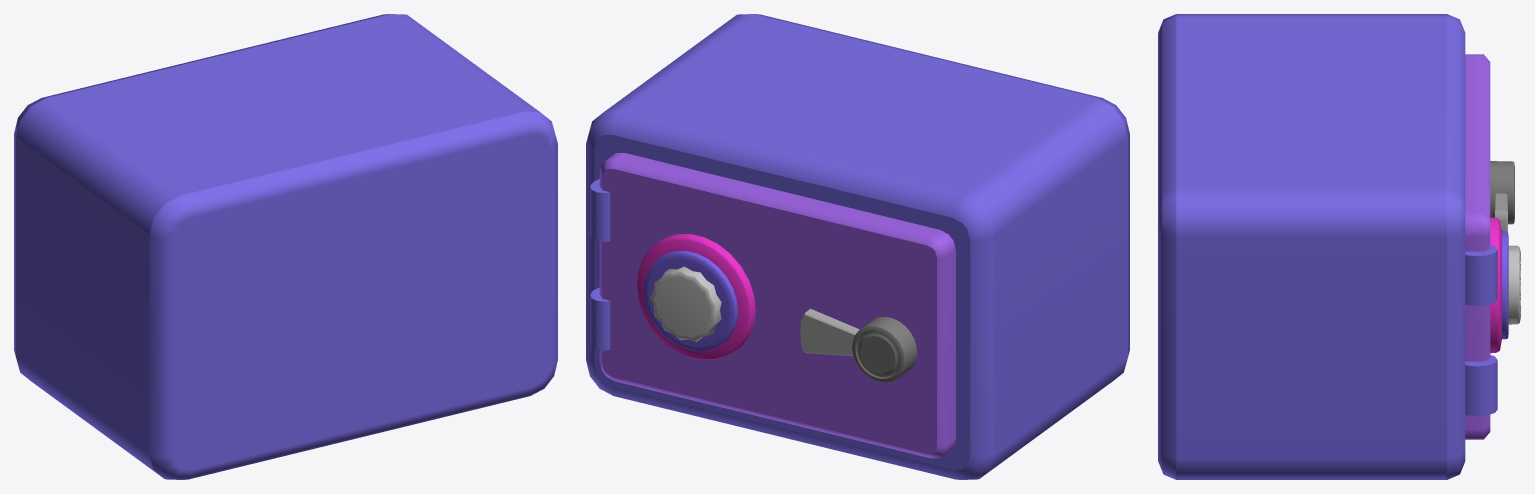
The model's file is Medium_Safe_01.fbx.
3 renders of one model, left to right at view 1: azimuth 30°, elevation 25°; view 2: azimuth 150°, elevation 25°; view 3: azimuth 270°, elevation 25°, orthographic.
Visible parts, largest first — view 1: Medium_Safe_Base; view 2: Medium_Safe_Base, Medium_Safe_Door, Medium_Safe_Lock, Medium_Safe_Handle; view 3: Medium_Safe_Base, Medium_Safe_Door, Medium_Safe_Lock, Medium_Safe_Handle.
Part boxes in pixels (x1,y1,x2,y2): Medium_Safe_Base: (14, 14, 557, 479); Medium_Safe_Base: (586, 14, 1129, 479); Medium_Safe_Door: (590, 153, 955, 458); Medium_Safe_Lock: (650, 266, 721, 341); Medium_Safe_Handle: (800, 308, 859, 356); Medium_Safe_Base: (1158, 14, 1465, 479); Medium_Safe_Door: (1465, 54, 1514, 439); Medium_Safe_Lock: (1508, 245, 1520, 324); Medium_Safe_Handle: (1495, 193, 1507, 231).
Size of the model in its own units: 61.96 by 41.41 by 47.13.
